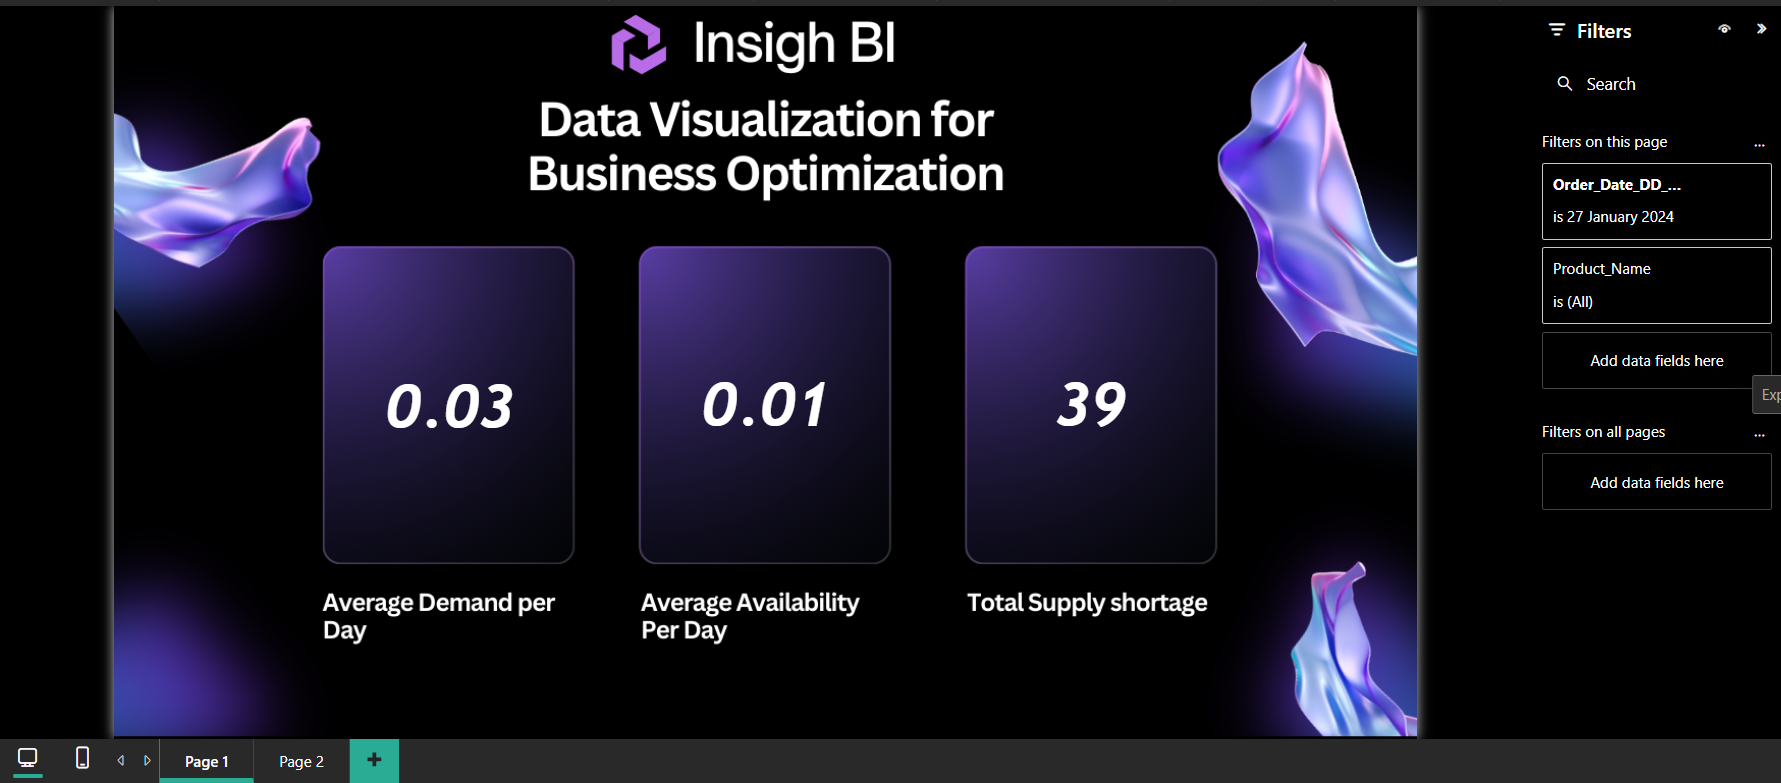

The dashboard page shown, as its layout file describes it:
{"tool":"powerbi","page":{"name":"Page 1","canvas":[1280,720],"ordinal":0},"visuals":[{"type":"cardVisual","fields":{"Data":["Measure Table.Average Demand Per Day"]},"box":[216,269.9,228.2,244.2],"z":0},{"type":"cardVisual","fields":{"Data":["Measure Table.Average Availability Per Day"]},"box":[526.4,268.7,228.2,244.2],"z":1000},{"type":"cardVisual","fields":{"Data":["Measure Table.Total Supply Shortage"]},"box":[845.4,268.7,228.2,244.2],"z":2000}]}

Visuals, with their boxes on the page's 1280x720 design canvas (x1, y1, x2, y2). These are canvas units, not pixel positions in the 1781x783 screenshot, which may show the page scaled, cropped or inside an application window:
cardVisual - Measure Table.Average Demand Per Day: (left=216, top=270, right=444, bottom=514)
cardVisual - Measure Table.Average Availability Per Day: (left=526, top=269, right=755, bottom=513)
cardVisual - Measure Table.Total Supply Shortage: (left=845, top=269, right=1074, bottom=513)
